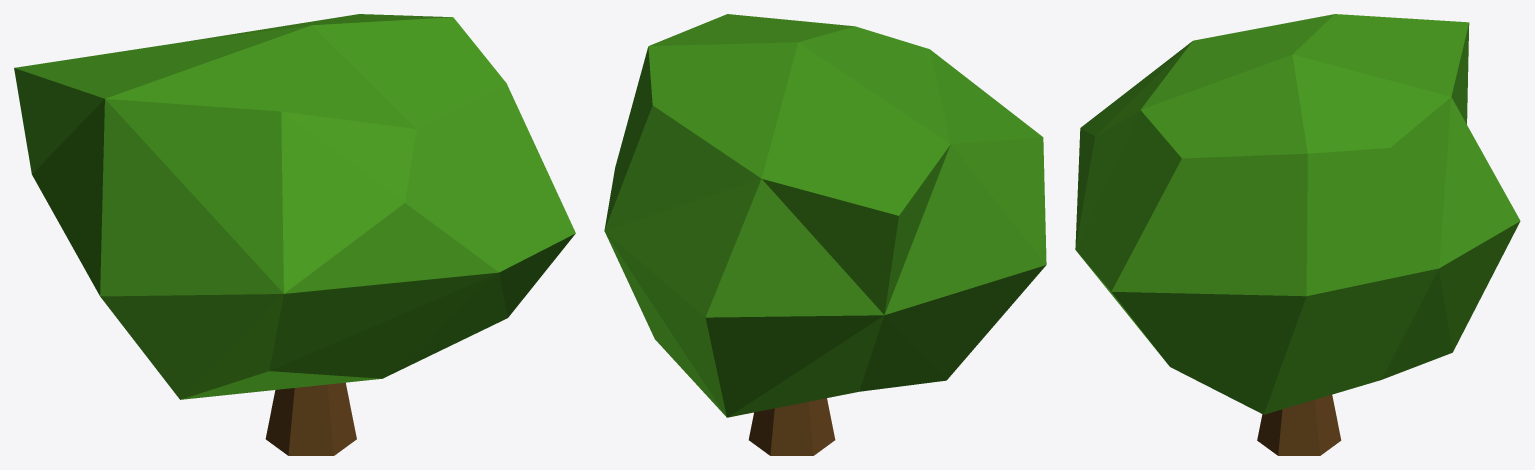
The model's file is Bush01.fbx.
3 renders of one model, left to right at view 1: azimuth 30°, elevation 25°; view 2: azimuth 150°, elevation 25°; view 3: azimuth 270°, elevation 25°, orthographic. The views are drawn at different scales.
Parts seen in each view (by area): view 1: Cube; view 2: Cube; view 3: Cube.
Part boxes in pixels (x1,y1,x2,y2): Cube: (14, 14, 575, 455); Cube: (604, 14, 1046, 455); Cube: (1075, 14, 1520, 455).
Bounding box in the file's own units: 211 × 200 × 209.
